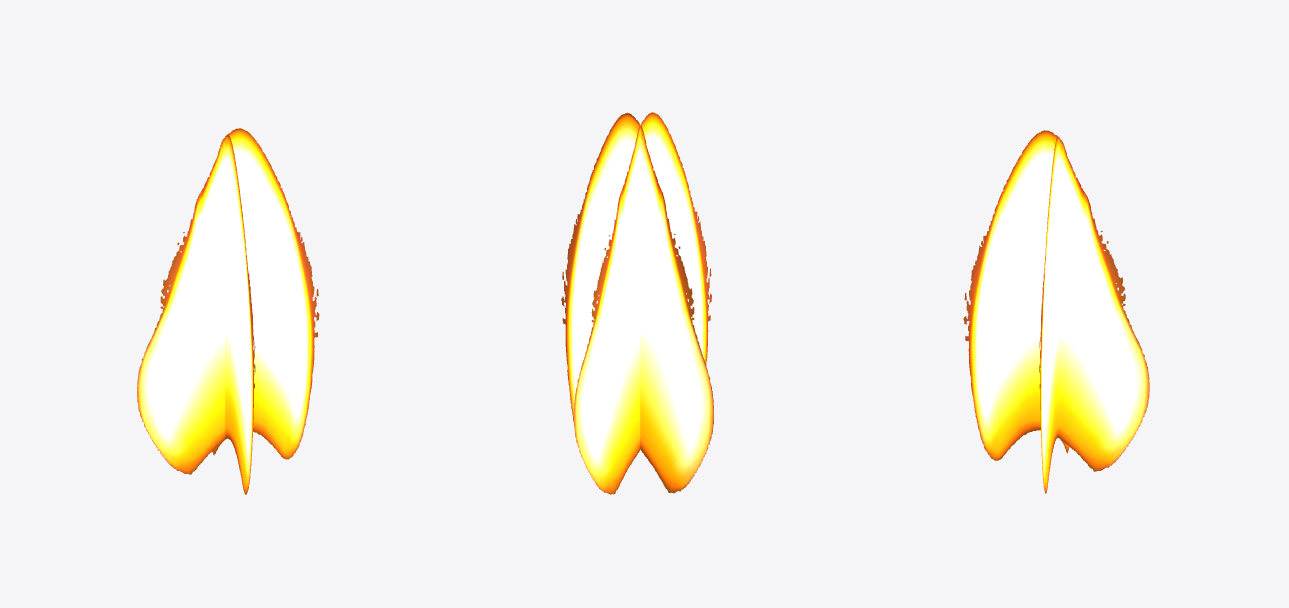
3 views of the same model, side by side, from view 1: azimuth 30°, elevation 25°; view 2: azimuth 150°, elevation 25°; view 3: azimuth 270°, elevation 25° (orthographic). The views are drawn at different scales.
Parts seen in each view (by area): view 1: FlameQuad; view 2: FlameQuad; view 3: FlameQuad.
Part boxes in pixels (x1,y1,x2,y2): FlameQuad: [137, 128, 319, 494]; FlameQuad: [561, 112, 713, 494]; FlameQuad: [963, 130, 1149, 493].
Size of the model in its own units: 10.8 by 11.05 by 10.8.
